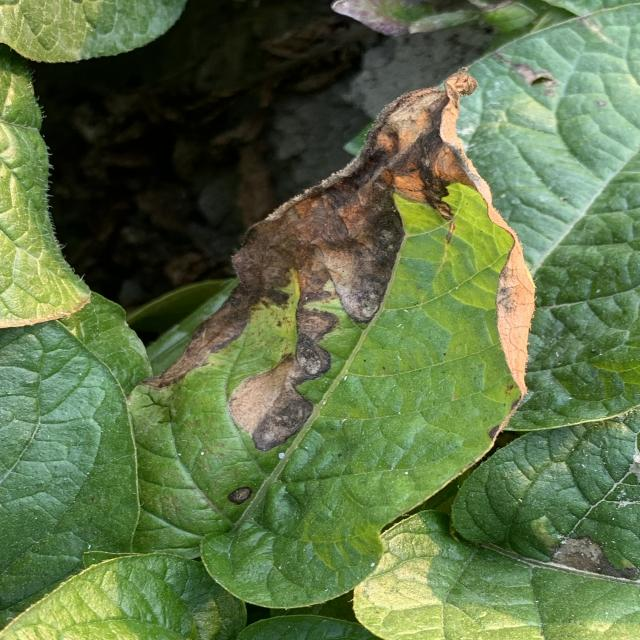lateblight: (147, 74, 477, 451), (488, 204, 535, 395)
